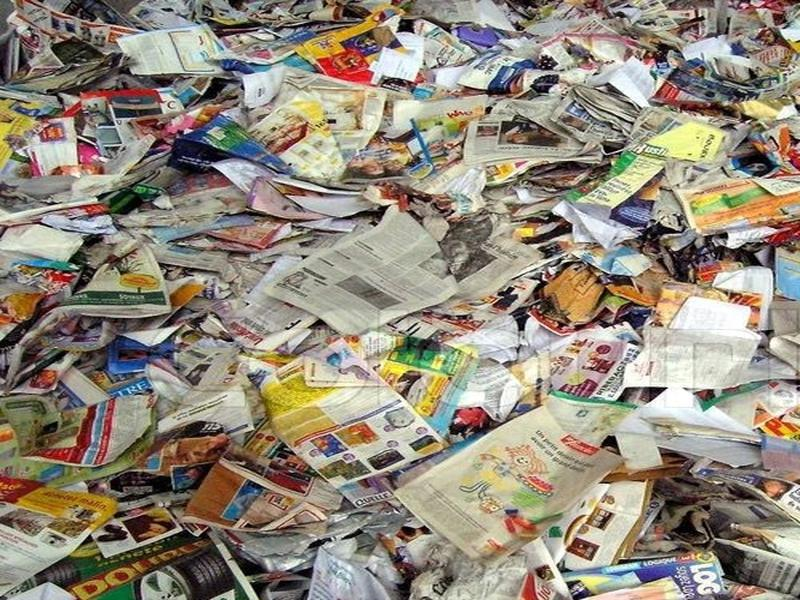paper: (388, 399, 632, 564), (257, 339, 454, 495), (1, 210, 176, 381), (258, 209, 463, 336), (616, 322, 800, 445), (219, 64, 395, 188), (59, 72, 216, 184), (1, 466, 126, 600), (640, 140, 800, 242), (452, 109, 612, 186)
